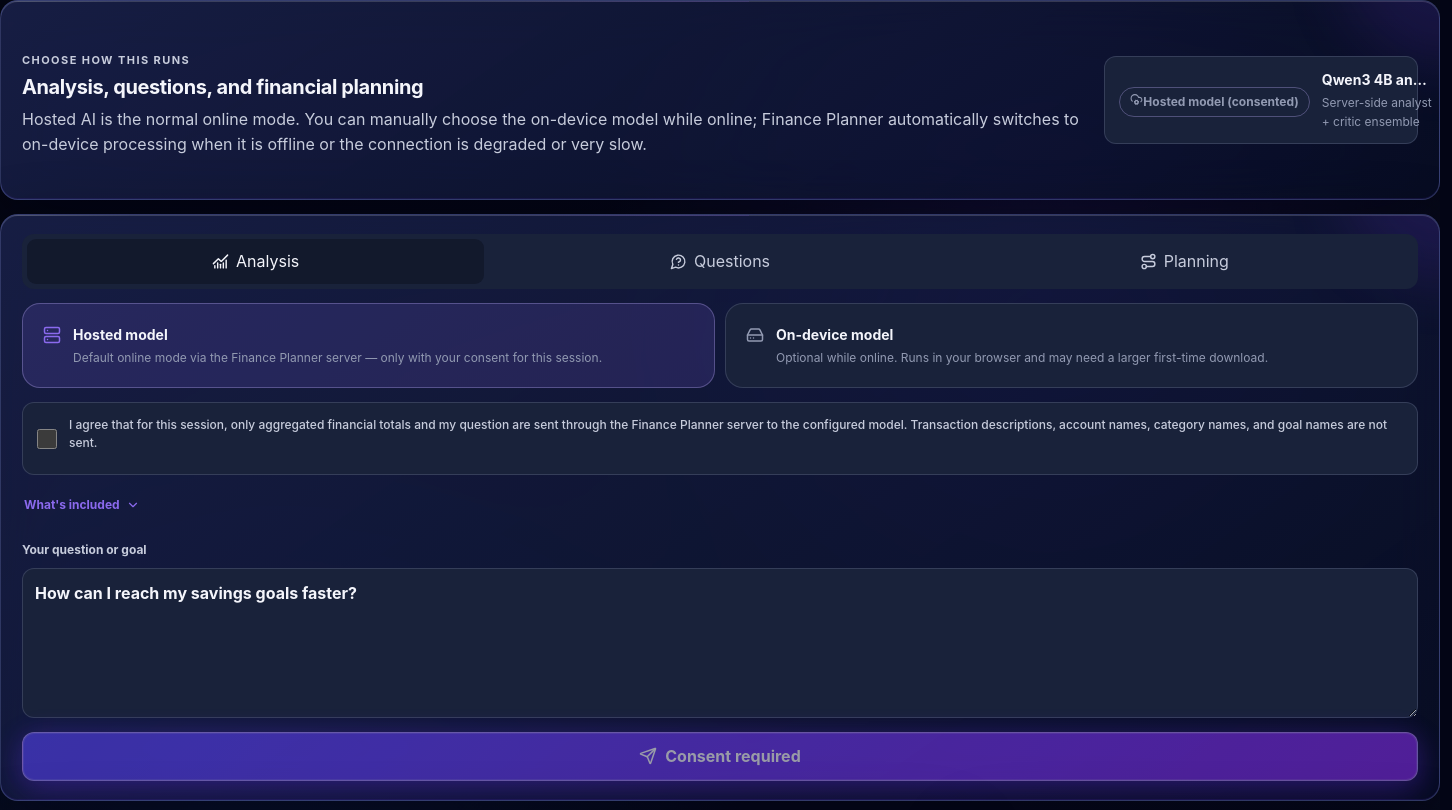
Test case: FinanceAssistant › uses hosted AI as the default online path and requires session consent
The width and height of the screenshot is (1452, 810).
Expected: the button "Consent required" is disabled, [22,732,1418,781]
Click the checkbox labelled "I agree that for this session": {"x": 47, "y": 440} [37,418,57,462]
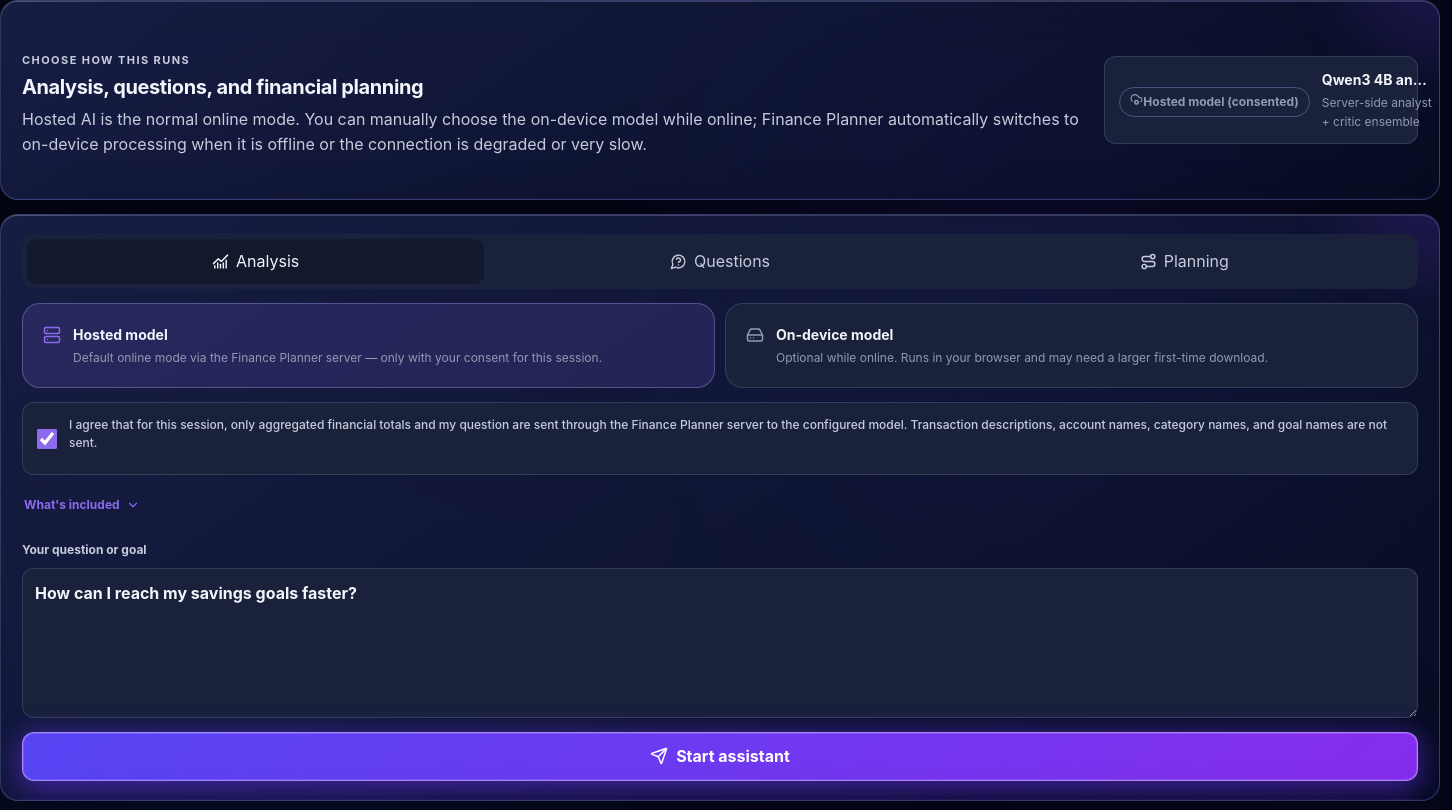
Expected: the button "Start assistant" is enabled, [22,732,1418,781]
